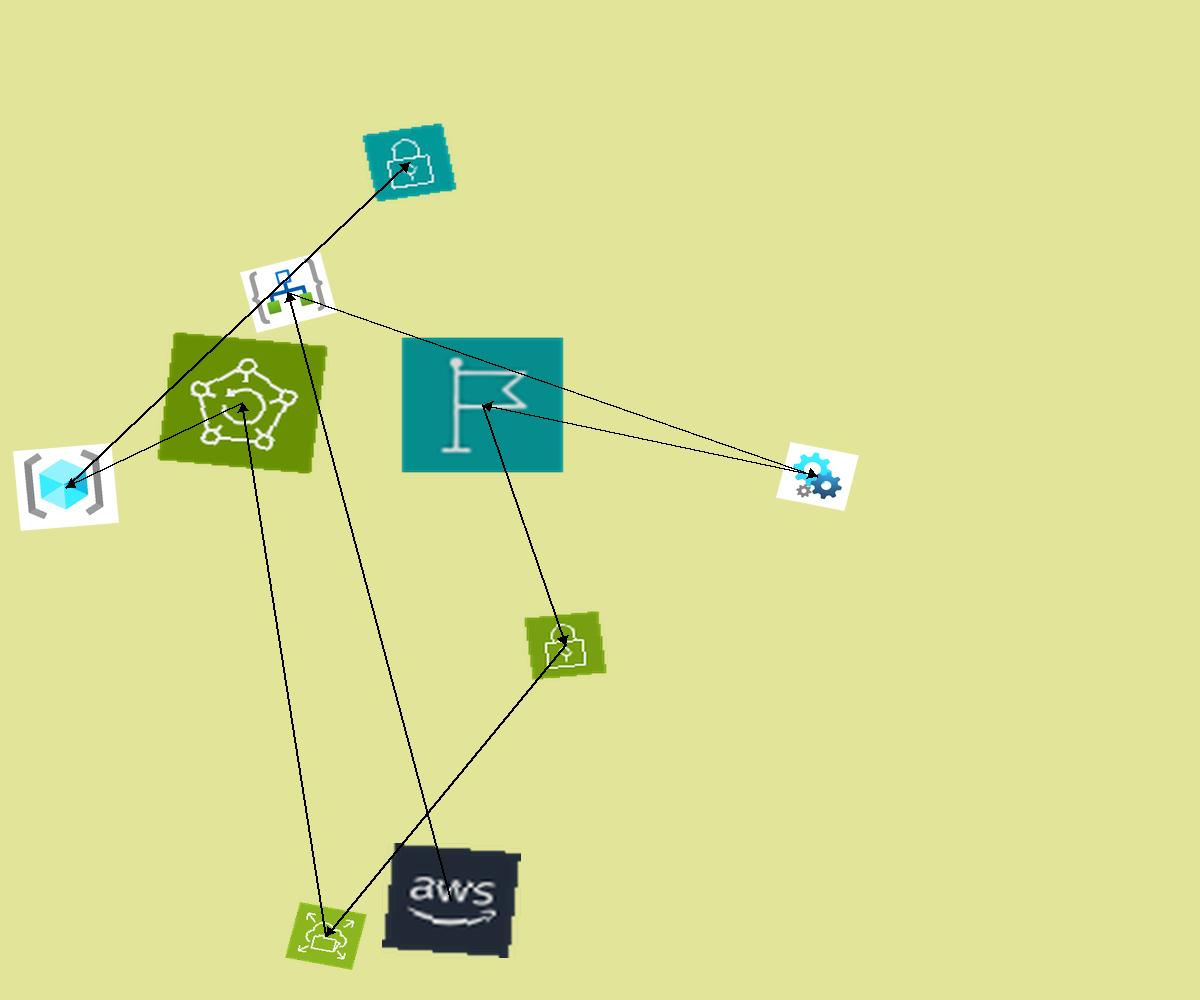AWS-Backup: (156, 331, 329, 475)
AWS-Cloud-logo: (382, 843, 521, 958)
AWS-EFS: (285, 902, 367, 970)
AWS-Private-subnet: (361, 122, 458, 203)
AWS-Public-subnet: (523, 610, 608, 681)
AWS-Region: (400, 336, 565, 474)
Azure_api: (776, 442, 859, 511)
Azure_integration-204-Logic-Apps: (240, 252, 337, 333)
Azure_resource_group: (13, 443, 119, 531)
